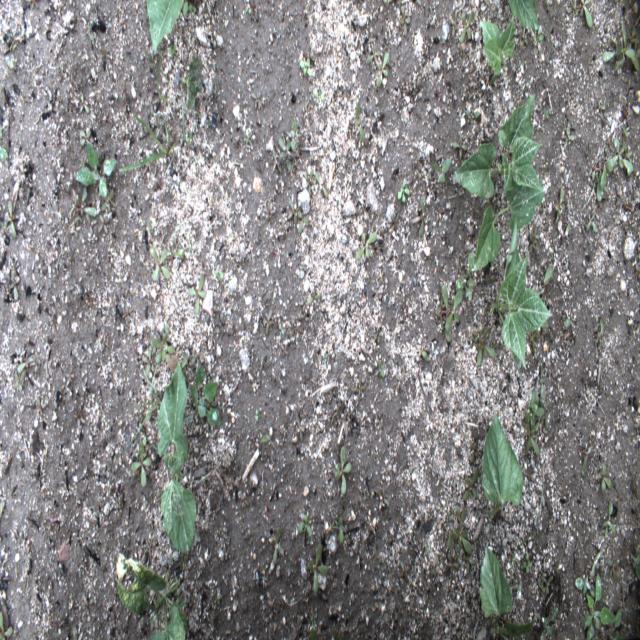crop: (451, 92, 545, 199), (488, 230, 553, 378), (156, 358, 196, 550), (114, 548, 190, 637), (475, 178, 545, 272), (478, 540, 533, 637), (480, 407, 526, 520), (480, 13, 520, 78), (144, 0, 190, 53), (509, 0, 542, 27)
weed: (122, 70, 197, 174), (573, 566, 630, 636), (587, 124, 637, 203), (74, 124, 118, 206), (430, 275, 466, 348), (128, 375, 162, 448), (600, 7, 636, 74), (67, 191, 114, 240), (188, 362, 221, 431), (439, 504, 474, 568), (522, 386, 551, 454), (136, 324, 174, 373), (301, 541, 330, 599), (332, 440, 360, 500), (176, 57, 203, 115), (270, 123, 300, 174), (364, 34, 389, 92), (129, 437, 155, 489), (472, 323, 499, 370), (455, 252, 476, 310), (12, 342, 36, 390), (183, 274, 207, 317), (451, 3, 476, 44), (428, 149, 452, 191), (85, 17, 109, 58), (295, 280, 322, 314), (554, 177, 575, 220), (286, 190, 306, 234), (566, 1, 595, 30), (454, 465, 478, 500), (414, 193, 434, 234), (352, 100, 368, 150), (150, 246, 172, 282), (303, 168, 328, 198), (537, 603, 559, 637), (2, 196, 21, 235), (357, 229, 376, 268), (258, 304, 274, 346), (270, 524, 286, 564), (7, 265, 21, 310), (596, 460, 614, 495), (170, 231, 186, 270), (297, 504, 314, 540), (0, 120, 13, 166), (278, 317, 293, 355), (329, 512, 349, 540), (593, 313, 608, 350), (254, 423, 276, 447), (559, 117, 576, 148), (601, 502, 616, 537), (210, 265, 230, 291), (4, 27, 19, 61), (243, 1, 260, 30), (307, 82, 325, 109), (451, 130, 467, 160), (528, 229, 544, 258), (296, 54, 315, 78), (534, 98, 552, 123), (34, 392, 50, 420), (72, 403, 88, 431), (399, 6, 412, 40), (387, 210, 404, 236), (161, 41, 180, 64), (77, 91, 94, 116), (373, 352, 387, 382), (587, 208, 602, 236), (379, 481, 391, 516), (558, 222, 574, 248), (1, 606, 14, 638), (582, 441, 594, 475), (240, 118, 254, 147), (398, 172, 412, 201), (540, 570, 554, 599), (416, 339, 432, 364), (562, 311, 582, 330), (122, 303, 136, 329), (542, 263, 556, 289), (521, 32, 543, 48), (521, 548, 534, 575), (406, 69, 419, 95), (262, 198, 276, 222), (465, 100, 479, 123), (269, 245, 282, 267), (250, 92, 261, 117), (251, 399, 260, 424), (295, 418, 304, 443)
